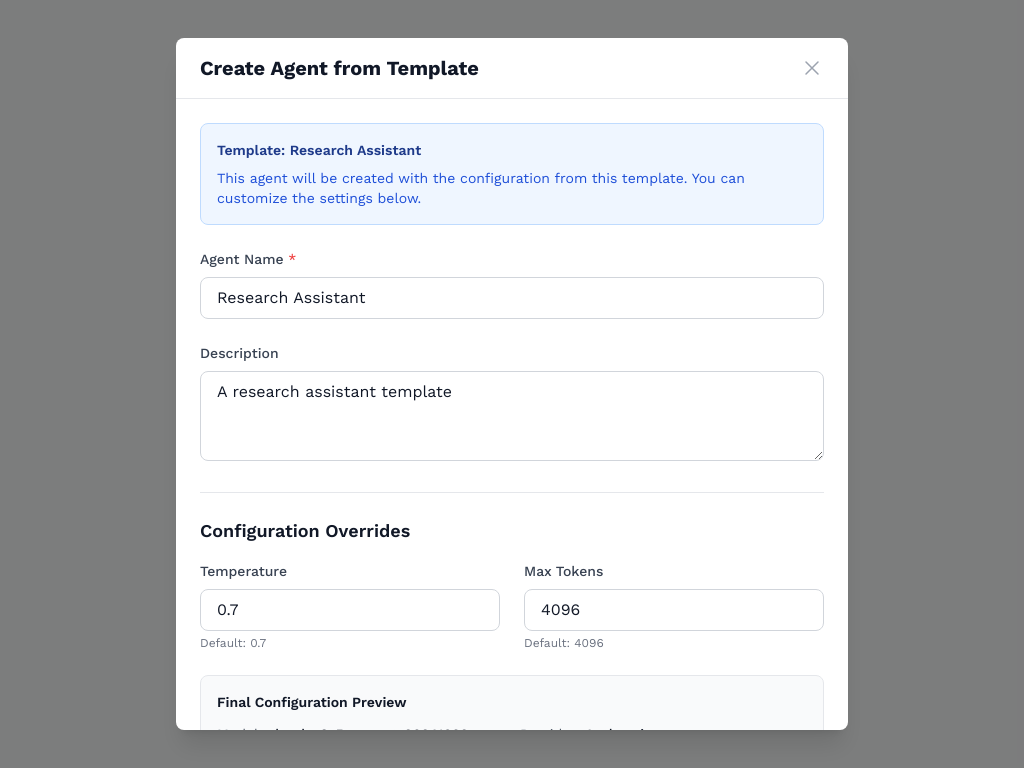
Test: CreateAgentFromTemplateModal › disables submit button when name is empty
Clear the field labelled "Agent Name *" at (512, 298), box [200,277,824,319]
(page scrolled)
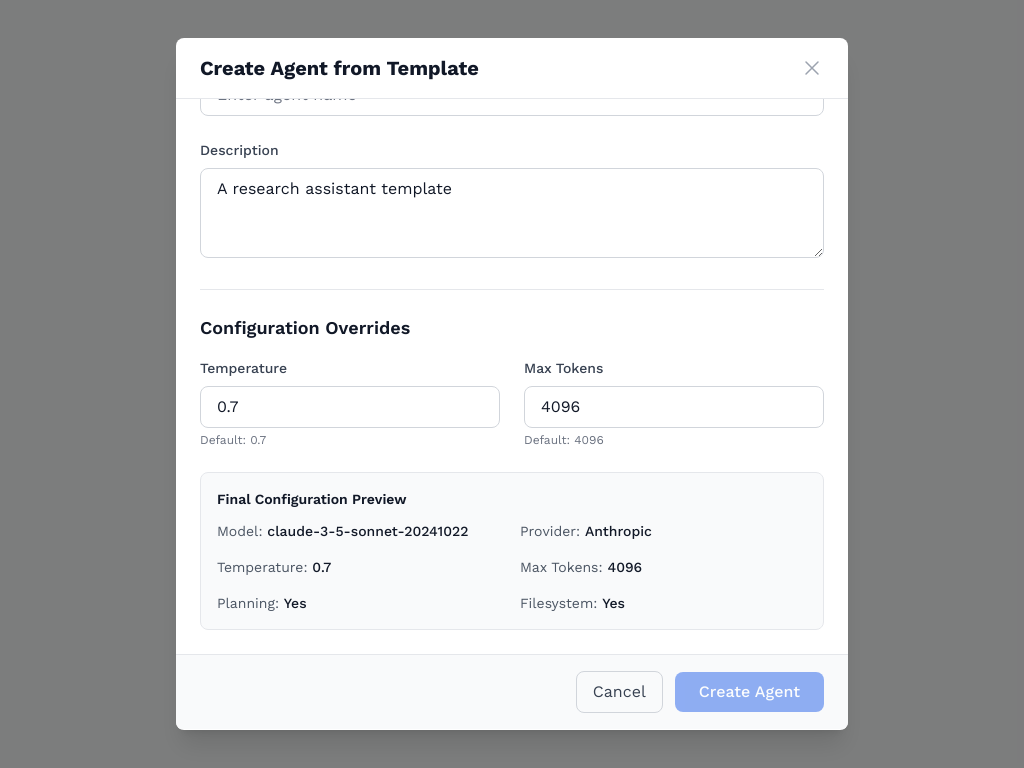
Check: the button "Create Agent" is disabled, box [675,672,824,712]
